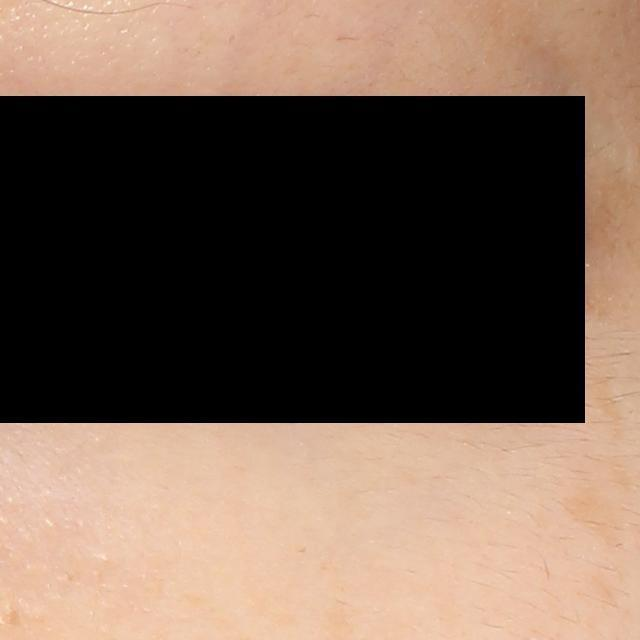melasma: (556, 480, 628, 550), (577, 361, 629, 445)
